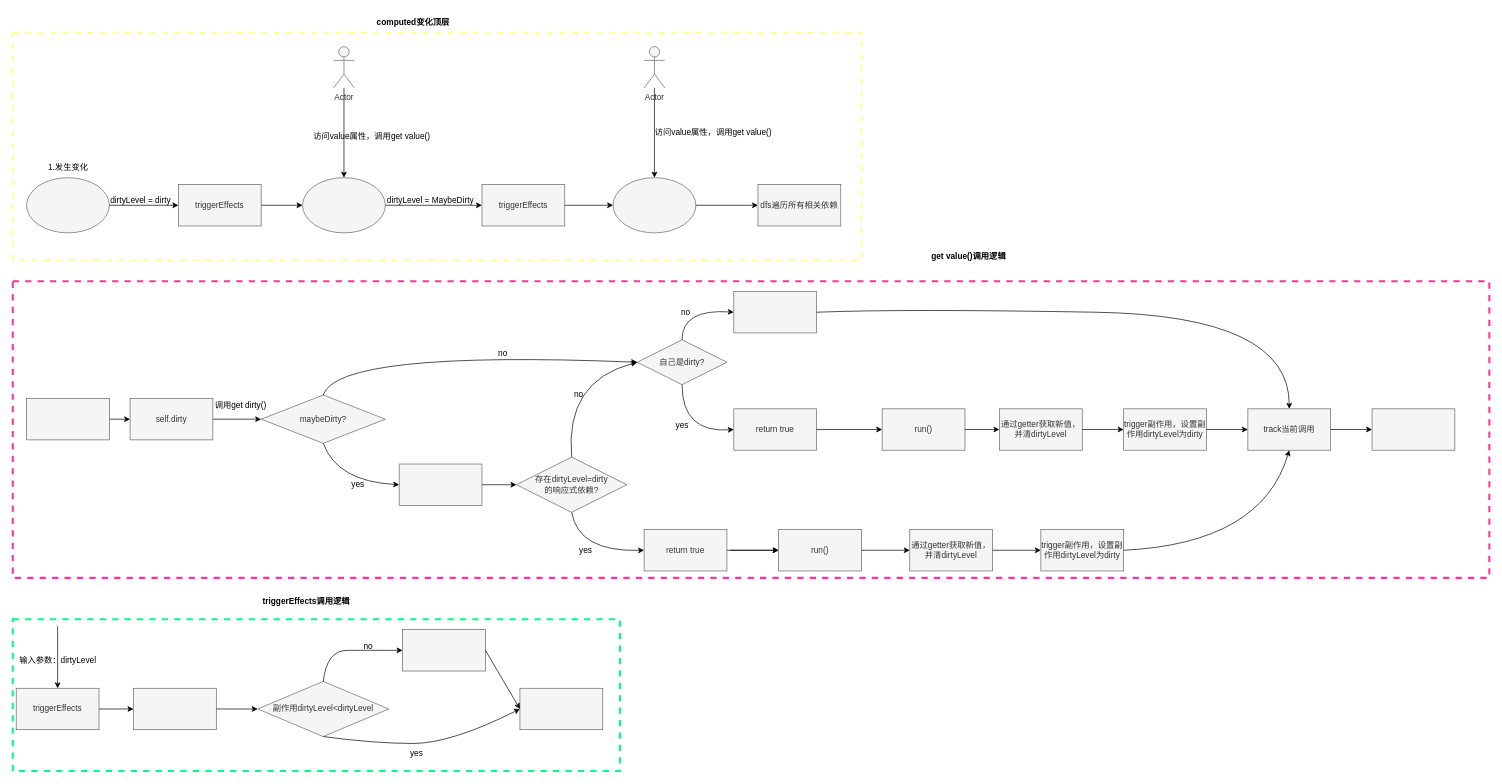
The diagram is 1502 pixels wide and 784 high, and some of its shapes have lost their labels. The shapes that lost their labels are listed below. From the top down, each one's centre as x and y in pixels, then its label:
At pixel 67 205: "ref0".
At pixel 343 205: "computed0".
At pixel 654 205: "someEffects".
At pixel 775 312: "return false".
At pixel 67 419: "get value()".
At pixel 1413 429: "返回值".
At pixel 440 484: "遍历self.deps，获取到所有依赖的响应式数据的dirtyLevel".
At pixel 443 650: "dirtyLevel赋值给副作用dirtyLevel".
At pixel 174 709: "遍历副作用列dep".
At pixel 561 709: "触发副作用的trigger".
